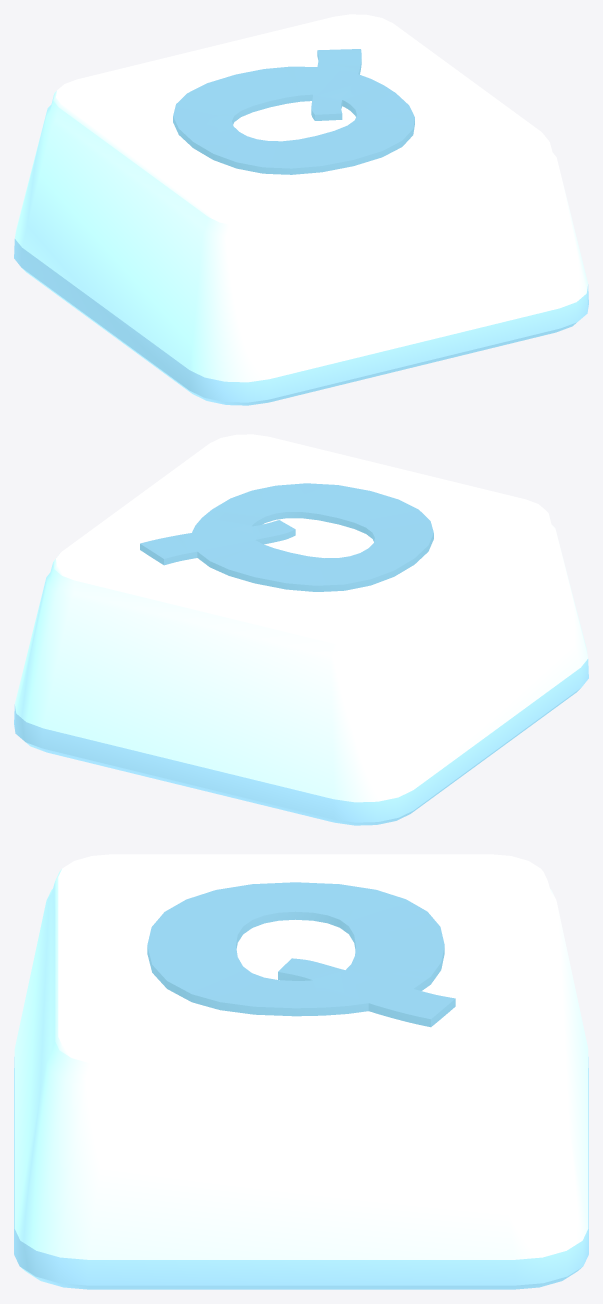
The model's file is props__Key_Q.glb.
3 renders of one model, top to bottom at view 1: azimuth 30°, elevation 25°; view 2: azimuth 150°, elevation 25°; view 3: azimuth 270°, elevation 25°, orthographic. The views are drawn at different scales.
Parts seen in each view (by area): view 1: Key_Q; view 2: Key_Q; view 3: Key_Q.
Boxes of the visible parts, <box> form: Key_Q: <box>14,14,588,405</box>; Key_Q: <box>14,434,588,825</box>; Key_Q: <box>14,854,588,1289</box>.
Size of the model in its own units: 3.9 by 1.65 by 3.9.
